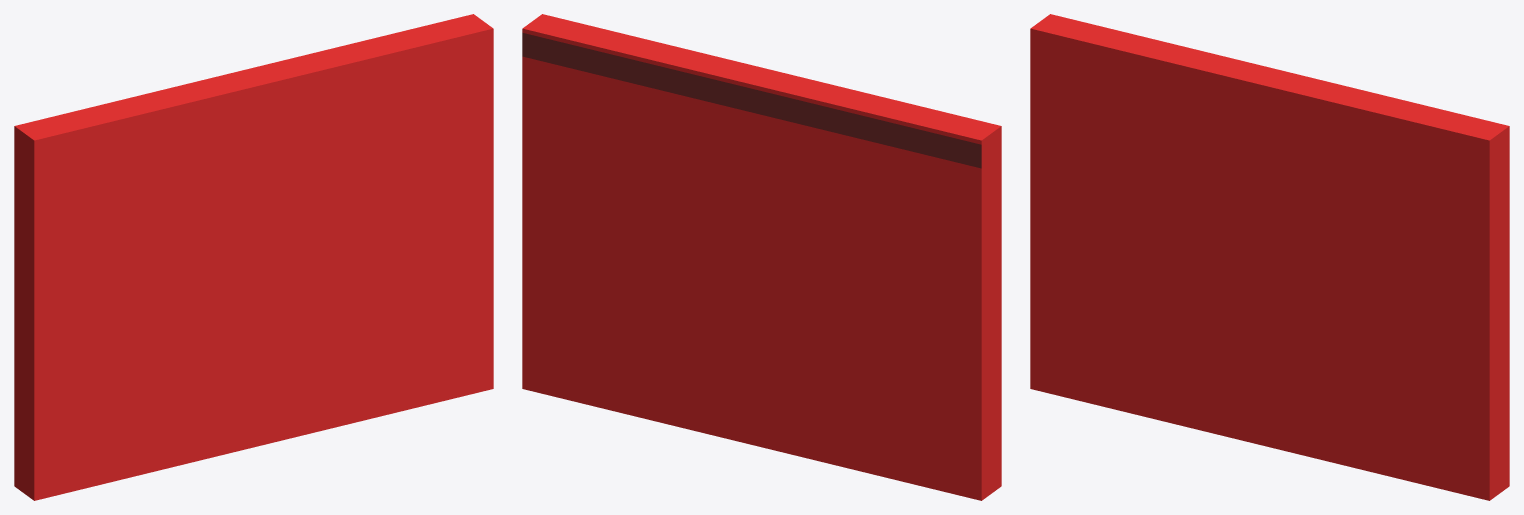
Rendered from b1.wall.fbx.
3 renders of one model, left to right at view 1: azimuth 30°, elevation 25°; view 2: azimuth 150°, elevation 25°; view 3: azimuth 330°, elevation 25°, orthographic.
Parts seen in each view (by area): view 1: b1 wall; view 2: b1 wall; view 3: b1 wall.
Part boxes in pixels (x1,y1,x2,y2): b1 wall: (14, 14, 493, 500); b1 wall: (522, 14, 1001, 500); b1 wall: (1030, 14, 1509, 500).
Size of the model in its own units: 4 by 3 by 0.3.
